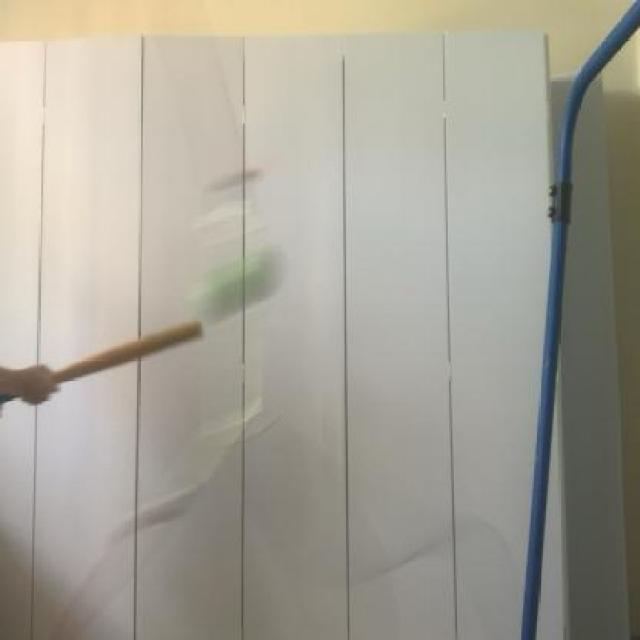baseball: (189, 238, 303, 340)
